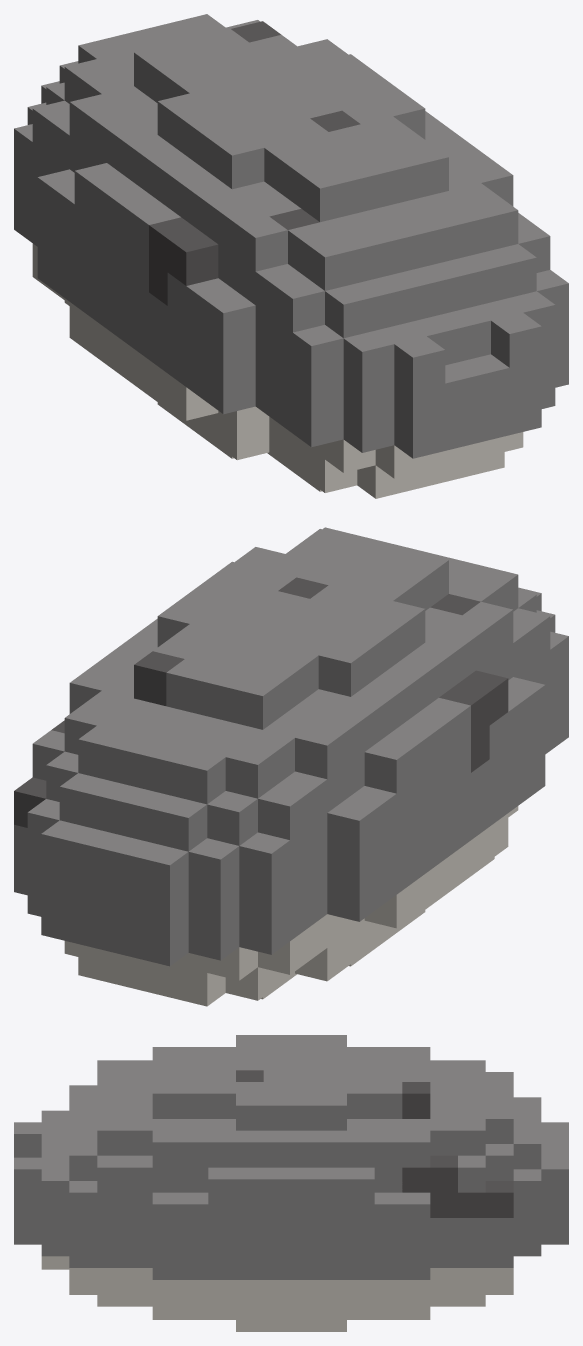
Rendered from seal__body.glb.
3 renders of one model, top to bottom at view 1: azimuth 30°, elevation 25°; view 2: azimuth 150°, elevation 25°; view 3: azimuth 270°, elevation 25°, orthographic. The views are drawn at different scales.
Visible parts, largest first — view 1: seal__body; view 2: seal__body; view 3: seal__body.
Boxes of the visible parts, <box> form: seal__body: <box>14,14,568,498</box>; seal__body: <box>14,527,568,1006</box>; seal__body: <box>14,1035,568,1331</box>.
Size of the model in its own units: 1 by 0.9 by 2.
Materials: 1 (1 with a texture image).
